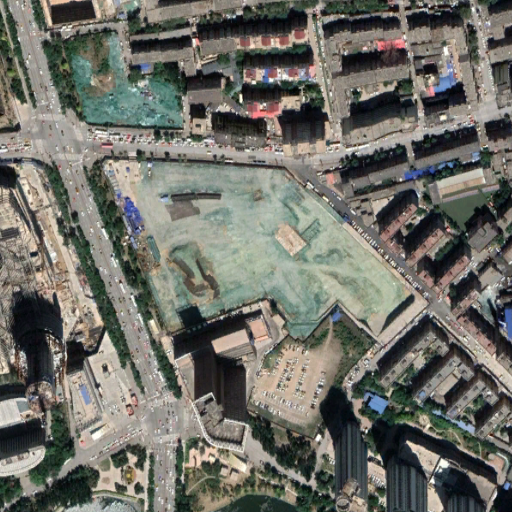cw: (101, 155, 417, 343), (63, 29, 183, 132)
